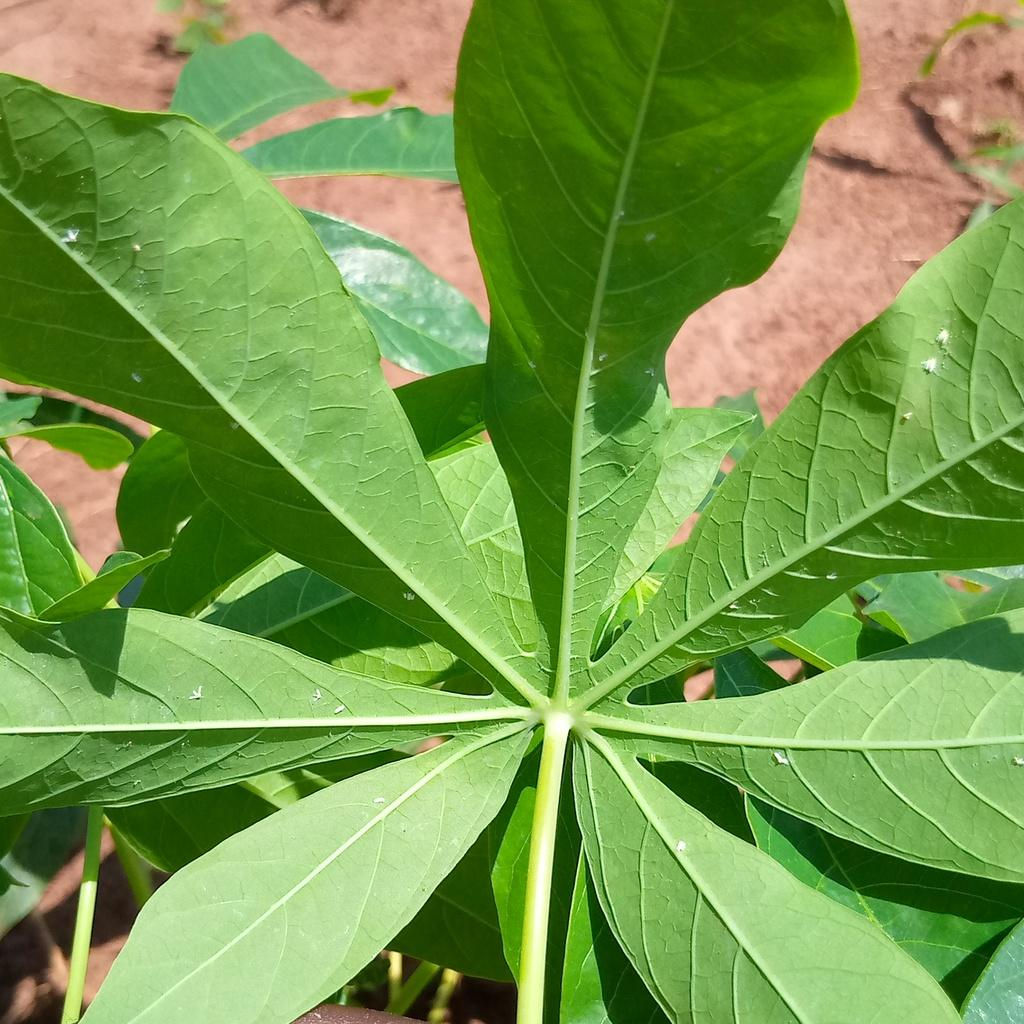adult: (920, 358, 937, 373), (62, 229, 79, 243), (773, 752, 788, 766), (936, 329, 950, 344), (189, 686, 203, 700), (676, 840, 686, 852), (1014, 756, 1024, 767), (373, 796, 385, 805), (333, 705, 345, 714), (313, 689, 321, 701), (903, 412, 912, 420), (826, 574, 837, 580), (133, 244, 141, 252), (133, 779, 142, 786), (729, 605, 739, 610)
